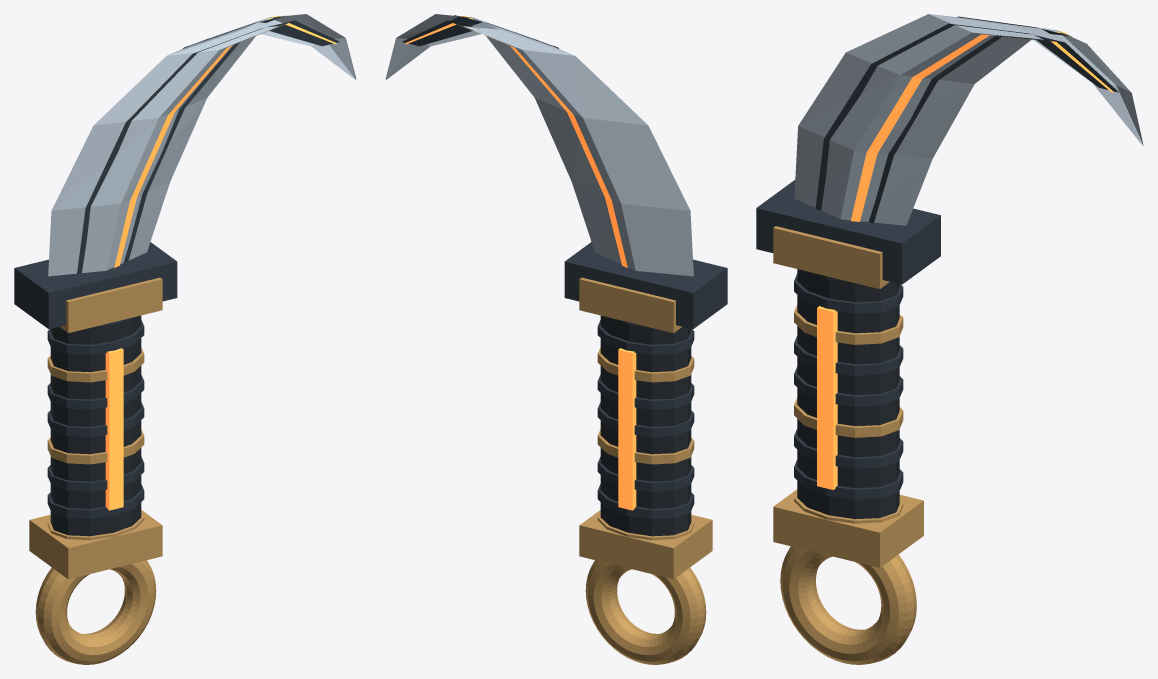
Rendered from ember_talon_karambit.glb.
The picture shows the model from 3 angles, left to right: view 1: azimuth 30°, elevation 25°; view 2: azimuth 150°, elevation 25°; view 3: azimuth 330°, elevation 25°; orthographic projection. The views are drawn at different scales.
Visible parts, largest first — view 1: Forged beveled blade, Grip core, Finger ring, Hook guard, Grip collar -0.0475, Grip collar 0.0475, Spine1, Grip inlay 1, Energy channel1, Grip wrap 07, Grip wrap 01, Grip wrap 03 (+5 smaller); view 2: Forged beveled blade, Grip core, Finger ring, Hook guard, Grip collar -0.0475, Grip collar 0.0475, Grip inlay -1, Energy channel-1, Grip wrap 07, Grip wrap 01, Grip wrap 03, Grip wrap 06 (+5 smaller); view 3: Forged beveled blade, Grip core, Finger ring, Hook guard, Grip collar -0.0475, Grip collar 0.0475, Spine1, Grip inlay 1, Energy channel1, Grip wrap 07, Grip wrap 01, Grip wrap 02 (+5 smaller).
Part boxes in pixels (left/top/right/bottom): Forged beveled blade: left=48, top=14, right=356, bottom=276; Grip core: left=50, top=315, right=141, bottom=536; Finger ring: left=35, top=560, right=156, bottom=664; Hook guard: left=14, top=242, right=177, bottom=329; Grip collar -0.0475: left=29, top=510, right=162, bottom=579; Grip collar 0.0475: left=59, top=277, right=162, bottom=333; Spine1: left=77, top=20, right=339, bottom=274; Grip inlay 1: left=105, top=348, right=123, bottom=510; Energy channel1: left=114, top=23, right=336, bottom=267; Grip wrap 07: left=47, top=320, right=144, bottom=354; Grip wrap 01: left=47, top=484, right=144, bottom=519; Grip wrap 03: left=47, top=429, right=144, bottom=464; Forged beveled blade: left=385, top=14, right=693, bottom=276; Grip core: left=600, top=315, right=691, bottom=536; Finger ring: left=585, top=560, right=706, bottom=664; Hook guard: left=564, top=242, right=727, bottom=329; Grip collar -0.0475: left=579, top=510, right=712, bottom=579; Grip collar 0.0475: left=579, top=277, right=682, bottom=333; Grip inlay -1: left=618, top=348, right=636, bottom=510; Energy channel-1: left=405, top=23, right=627, bottom=267; Grip wrap 07: left=597, top=320, right=694, bottom=354; Grip wrap 01: left=597, top=484, right=694, bottom=519; Grip wrap 03: left=597, top=429, right=694, bottom=464; Grip wrap 06: left=597, top=347, right=694, bottom=382; Forged beveled blade: left=794, top=14, right=1143, bottom=225; Grip core: left=797, top=269, right=899, bottom=519; Finger ring: left=780, top=546, right=916, bottom=664; Hook guard: left=756, top=180, right=940, bottom=284; Grip collar -0.0475: left=773, top=489, right=923, bottom=567; Grip collar 0.0475: left=773, top=226, right=889, bottom=288; Spine1: left=815, top=23, right=1118, bottom=223; Grip inlay 1: left=817, top=306, right=837, bottom=489; Energy channel1: left=851, top=34, right=1113, bottom=221; Grip wrap 07: left=794, top=274, right=903, bottom=313; Grip wrap 01: left=794, top=460, right=903, bottom=499; Grip wrap 02: left=794, top=429, right=903, bottom=468.
Bounding box in the file's own units: 0.1313 × 0.2305 × 0.0288.
